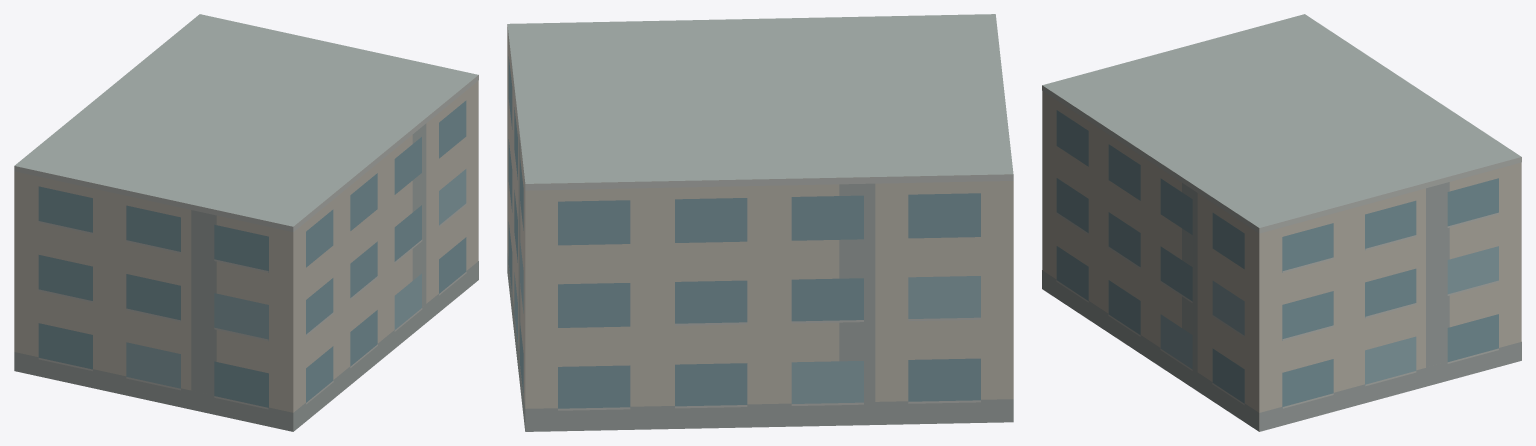
The model's file is residential-5a94885b-ebbd-467e-ba27-2caf193b6460.glb.
The picture shows the model from 3 angles, left to right: view 1: azimuth 30°, elevation 25°; view 2: azimuth 150°, elevation 25°; view 3: azimuth 270°, elevation 25°; orthographic projection. The views are drawn at different scales.
Parts seen in each view (by area): view 1: residential-5a94885b-ebbd-467e-ba27-2caf193b6460.tmp; view 2: residential-5a94885b-ebbd-467e-ba27-2caf193b6460.tmp; view 3: residential-5a94885b-ebbd-467e-ba27-2caf193b6460.tmp.
Boxes of the visible parts, x1,y1,x2,y2 form: residential-5a94885b-ebbd-467e-ba27-2caf193b6460.tmp: [14, 14, 478, 431]; residential-5a94885b-ebbd-467e-ba27-2caf193b6460.tmp: [507, 14, 1013, 431]; residential-5a94885b-ebbd-467e-ba27-2caf193b6460.tmp: [1042, 14, 1521, 431].
Bounding box in the file's own units: 20.62 × 9.15 × 19.52.
